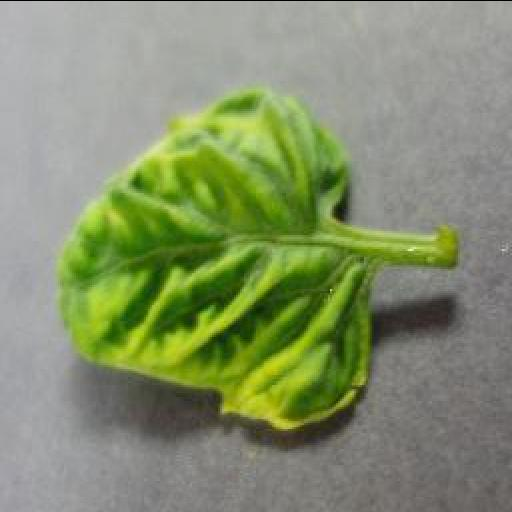disease_tomato: (58, 90, 376, 432)
